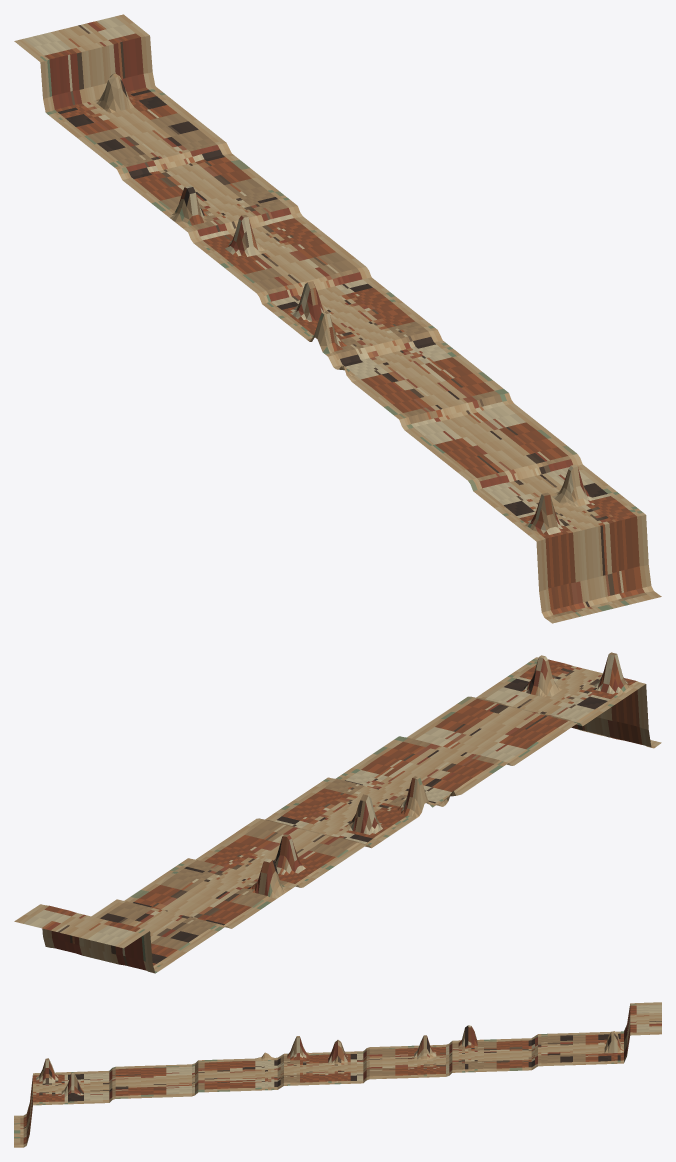
File: liner_cloud_wash_east.glb
The picture shows the model from 3 angles, top to bottom: view 1: azimuth 30°, elevation 25°; view 2: azimuth 150°, elevation 25°; view 3: azimuth 270°, elevation 25°; orthographic projection. The views are drawn at different scales.
Visible parts, largest first — view 1: liner_cloud_wash_east_body; view 2: liner_cloud_wash_east_body; view 3: liner_cloud_wash_east_body.
Boxes of the visible parts, bbox=[...] form: liner_cloud_wash_east_body: bbox=[14, 14, 661, 623]; liner_cloud_wash_east_body: bbox=[14, 652, 661, 973]; liner_cloud_wash_east_body: bbox=[14, 1002, 661, 1147].
Size of the model in its own units: 36 by 59.09 by 306.
